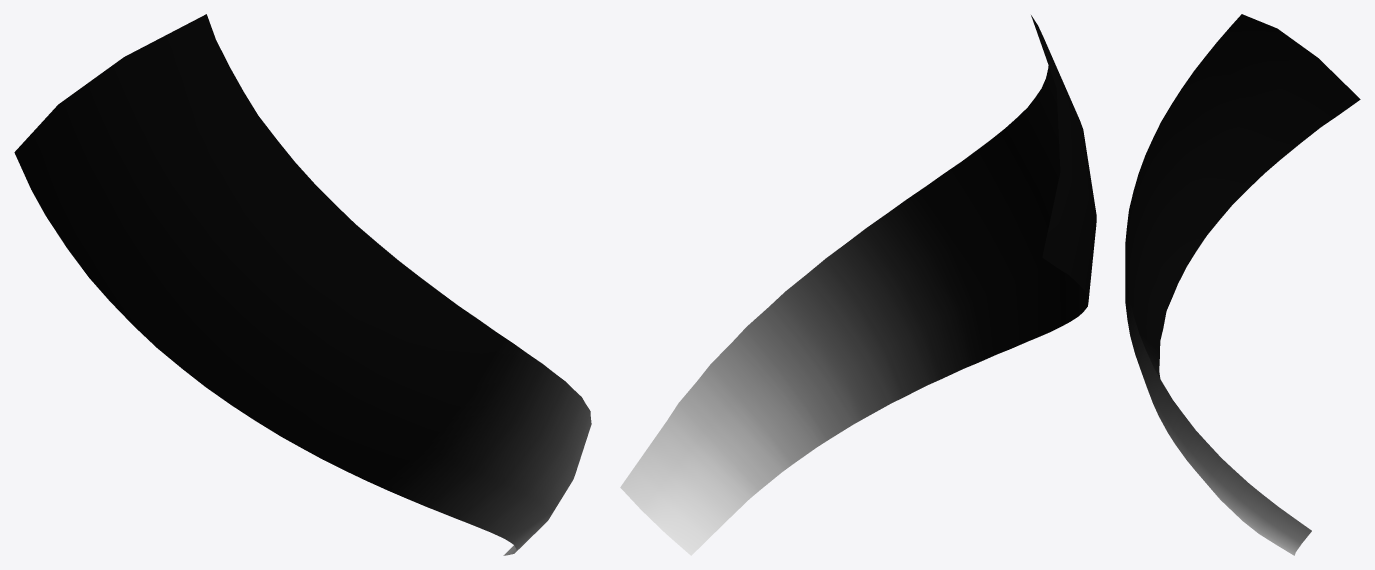
File: Helix_mesh001.fbx
3 views of the same model, side by side, from view 1: azimuth 30°, elevation 25°; view 2: azimuth 150°, elevation 25°; view 3: azimuth 270°, elevation 25° (orthographic). The views are drawn at different scales.
Parts seen in each view (by area): view 1: HElix_Mesh001; view 2: HElix_Mesh001; view 3: HElix_Mesh001.
Part boxes in pixels (left/top/right/bottom): HElix_Mesh001: left=14, top=14, right=591, bottom=555; HElix_Mesh001: left=620, top=15, right=1096, bottom=555; HElix_Mesh001: left=1125, top=14, right=1360, bottom=555.
Bounding box in the file's own units: 28.02 × 34.67 × 17.09.
